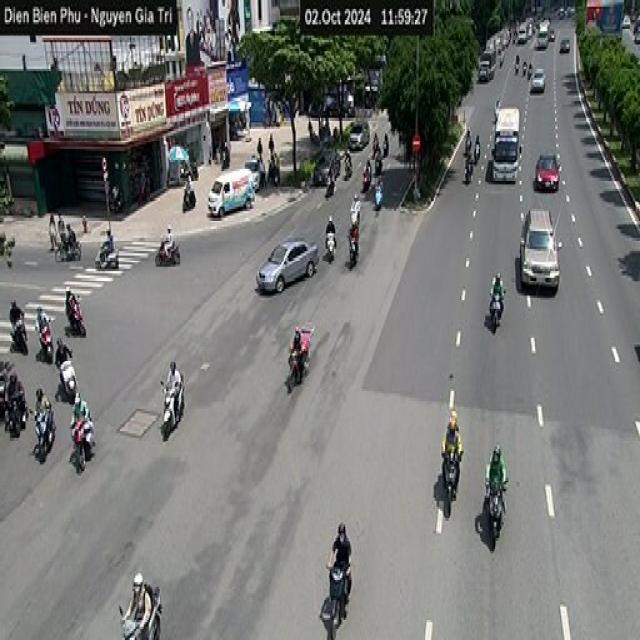car: (255, 238, 319, 293), (519, 207, 560, 289), (534, 151, 560, 191), (530, 67, 545, 91)
motorcycle: (483, 475, 508, 549), (158, 373, 184, 440), (440, 447, 461, 518), (70, 416, 92, 474), (33, 407, 55, 462), (4, 389, 28, 438), (65, 291, 86, 336), (8, 314, 28, 354), (36, 322, 54, 362), (55, 233, 81, 260), (94, 240, 118, 269), (155, 238, 180, 264), (488, 291, 502, 333), (348, 229, 358, 269), (325, 231, 336, 262), (462, 151, 473, 182)
person: (119, 571, 151, 638), (162, 360, 182, 424), (331, 516, 352, 574), (289, 324, 305, 380), (485, 442, 505, 485), (489, 271, 505, 320), (442, 417, 460, 447)
